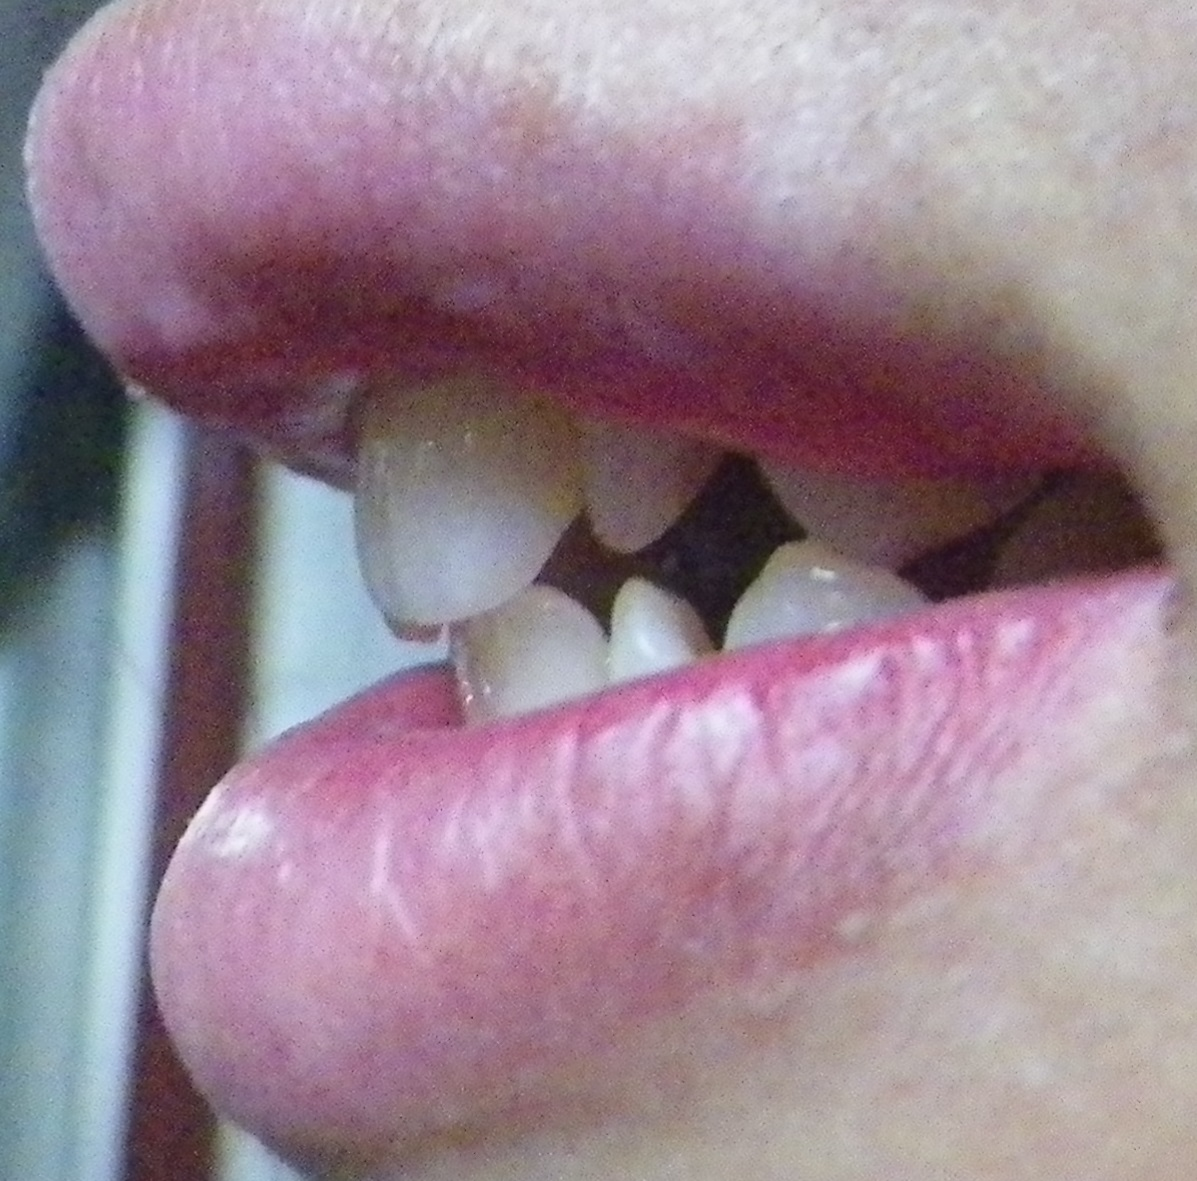boca: (354, 388, 1145, 709)
